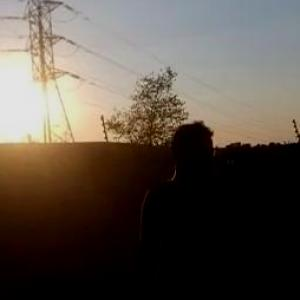follow: (138, 116, 248, 299)
